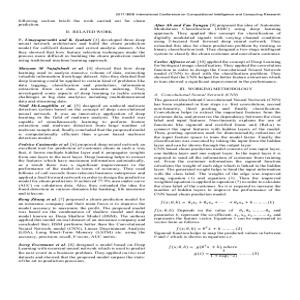text: (151, 20, 286, 265), (16, 17, 148, 266)
